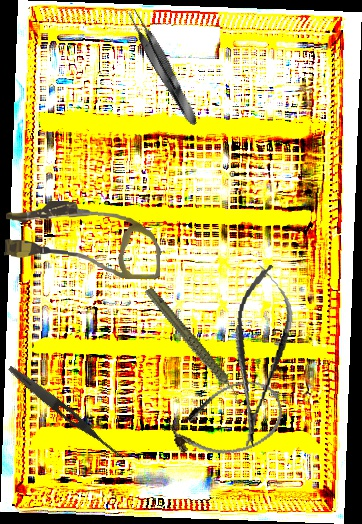Cannula: (3, 199, 163, 280), (163, 371, 291, 471)
Dressing Forceps: (5, 362, 128, 463)
Handpiece: (143, 274, 241, 416)
Micro Scissor: (218, 261, 300, 450)
Tissue Forceps: (123, 6, 203, 130)
